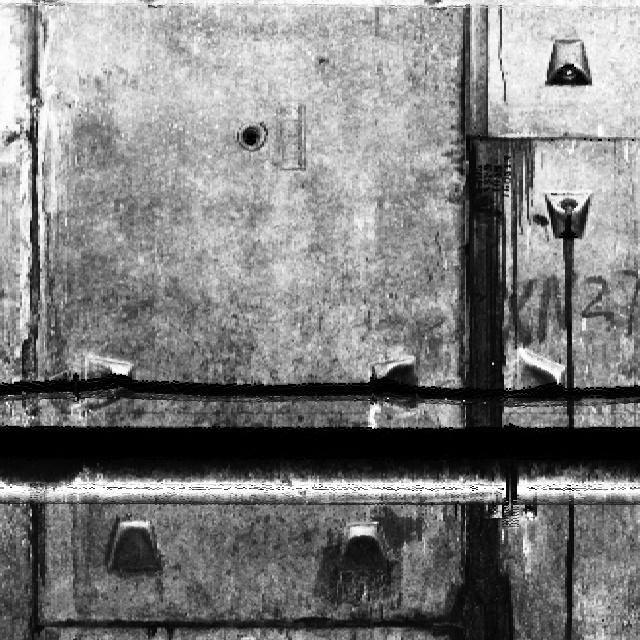leakage: (439, 104, 539, 426), (14, 0, 58, 417), (406, 498, 534, 639), (19, 487, 59, 638)
